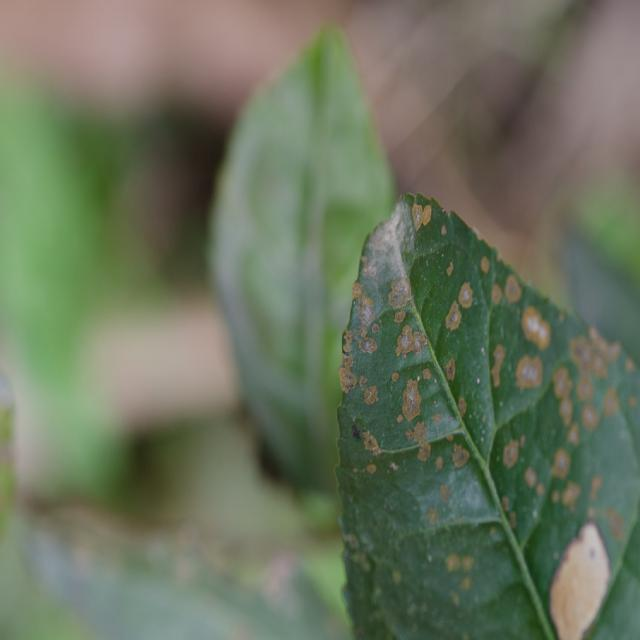Tea algae leaf spot: (359, 206, 603, 546)
